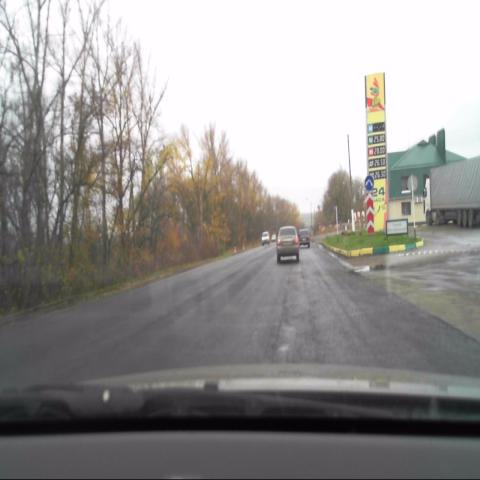4_2_3: (364, 174, 374, 191)
